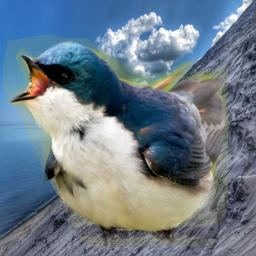Swallow: (3, 35, 228, 246)
